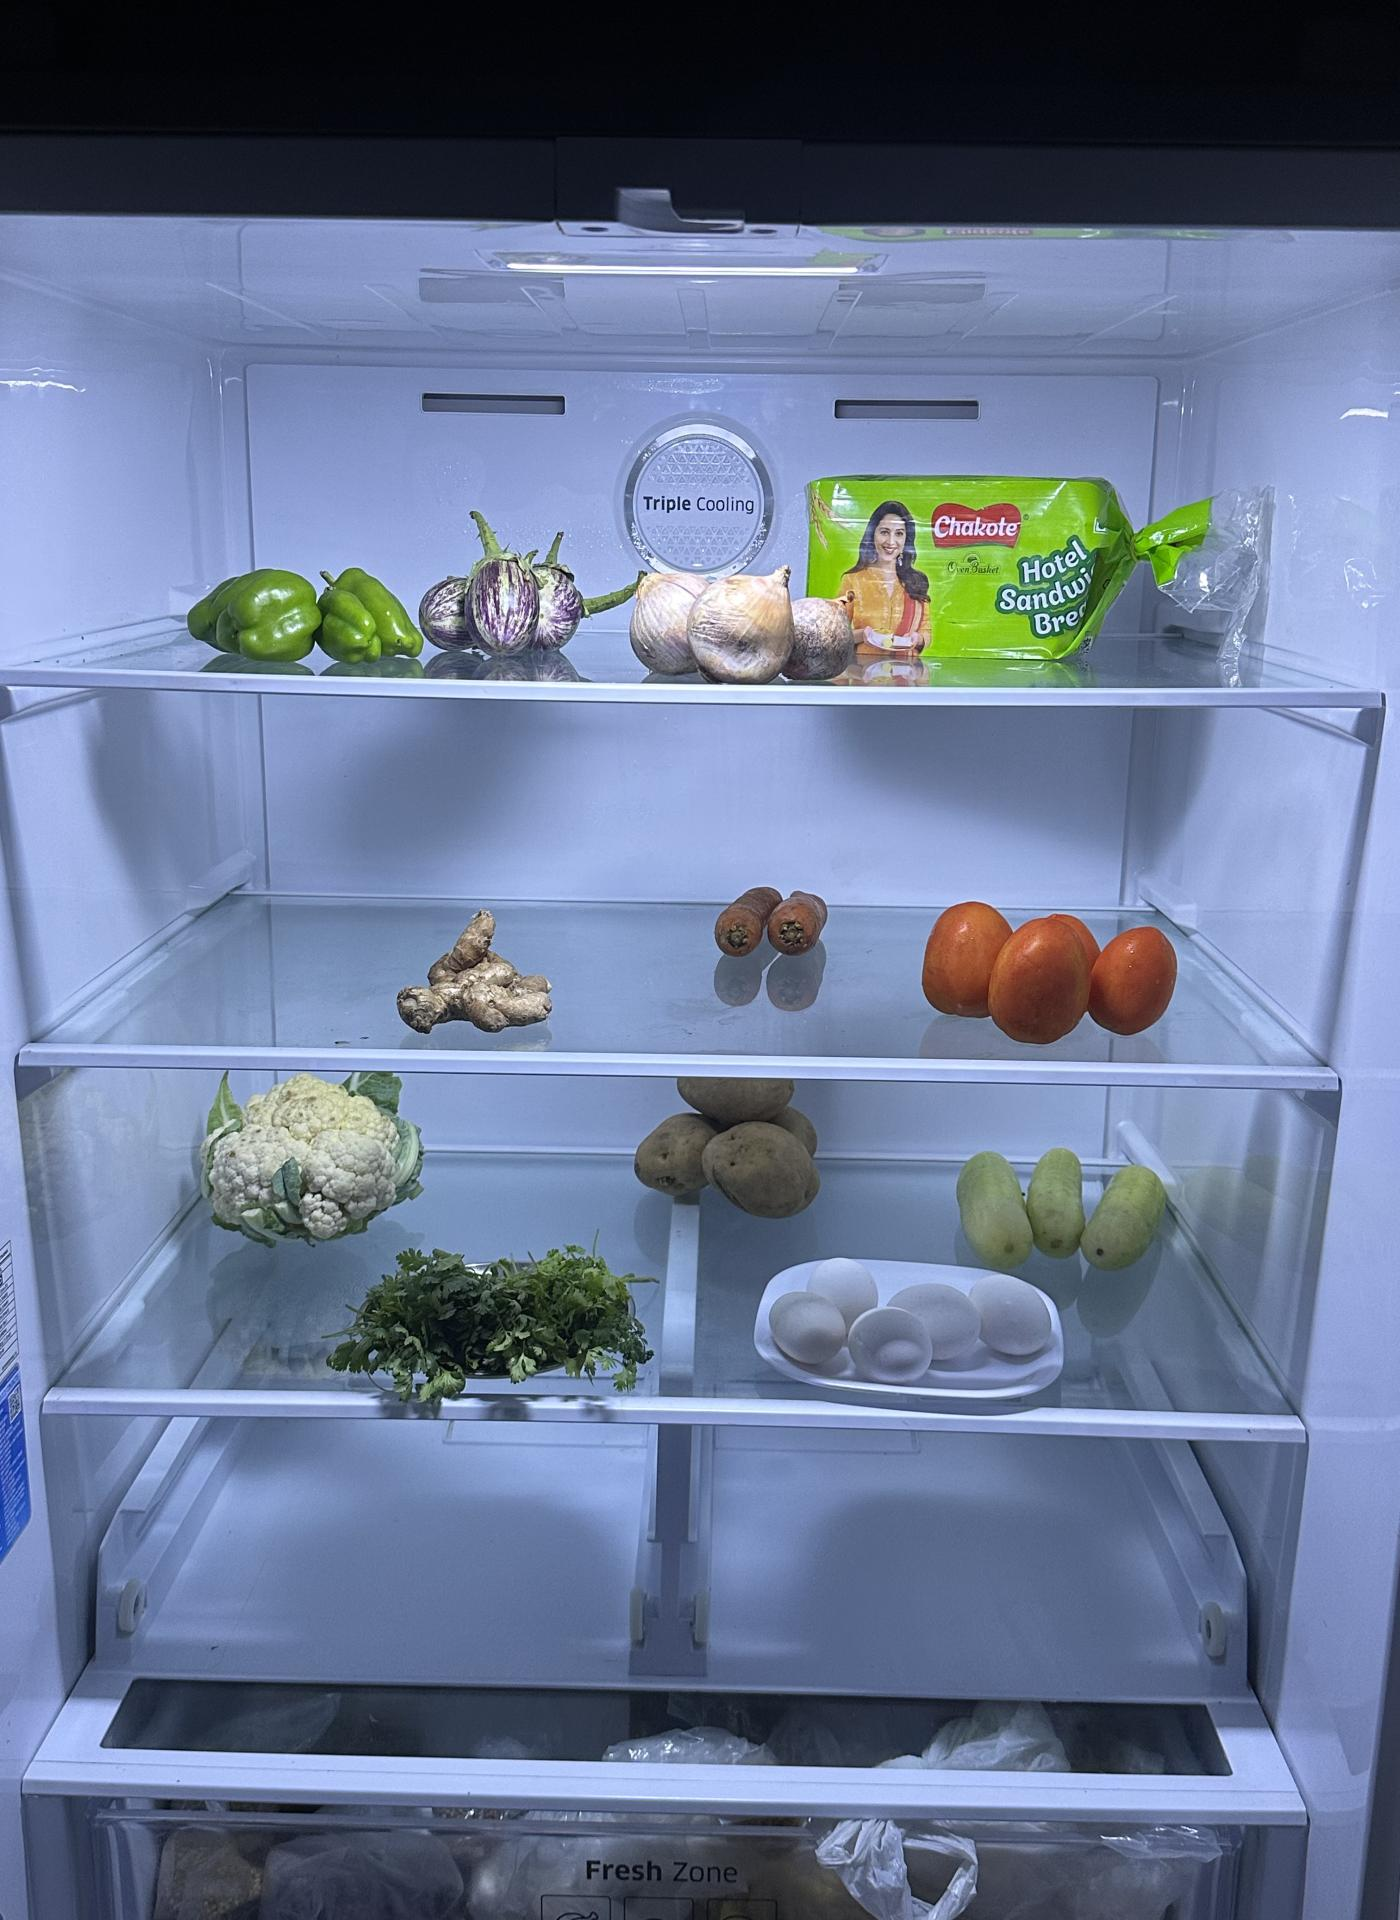bread: (802, 468, 1142, 683)
brinjal: (417, 543, 619, 659)
capsicum: (183, 540, 423, 651)
carrots: (711, 884, 826, 956)
cauliflower: (191, 1073, 429, 1239)
coriander: (353, 1242, 653, 1398)
egg: (777, 1257, 1050, 1380)
ginger: (395, 903, 556, 1039)
lemon: (957, 1133, 1173, 1270)
potato: (631, 1066, 830, 1209)
tomato: (924, 888, 1187, 1043)
